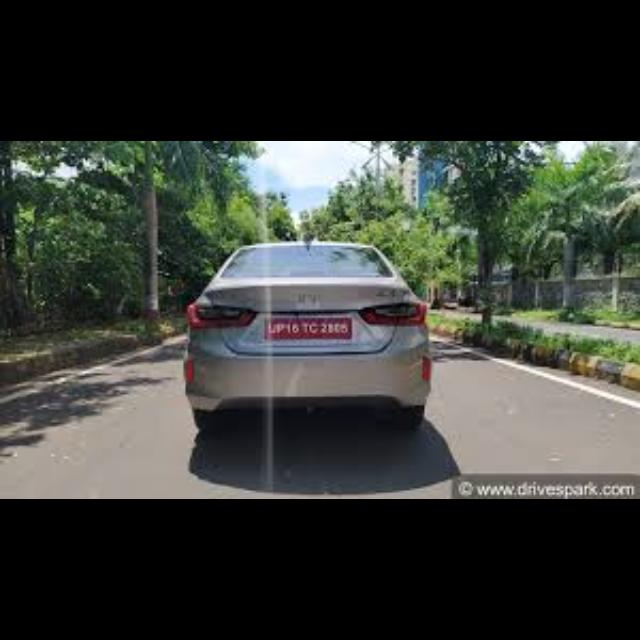vehicles: (175, 236, 437, 442)
